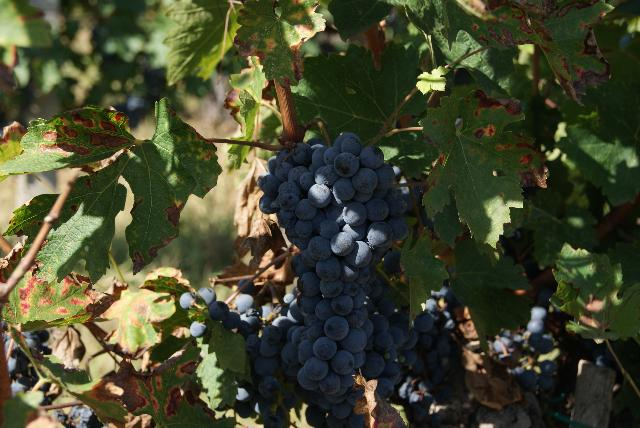grapes: (259, 132, 409, 396)
